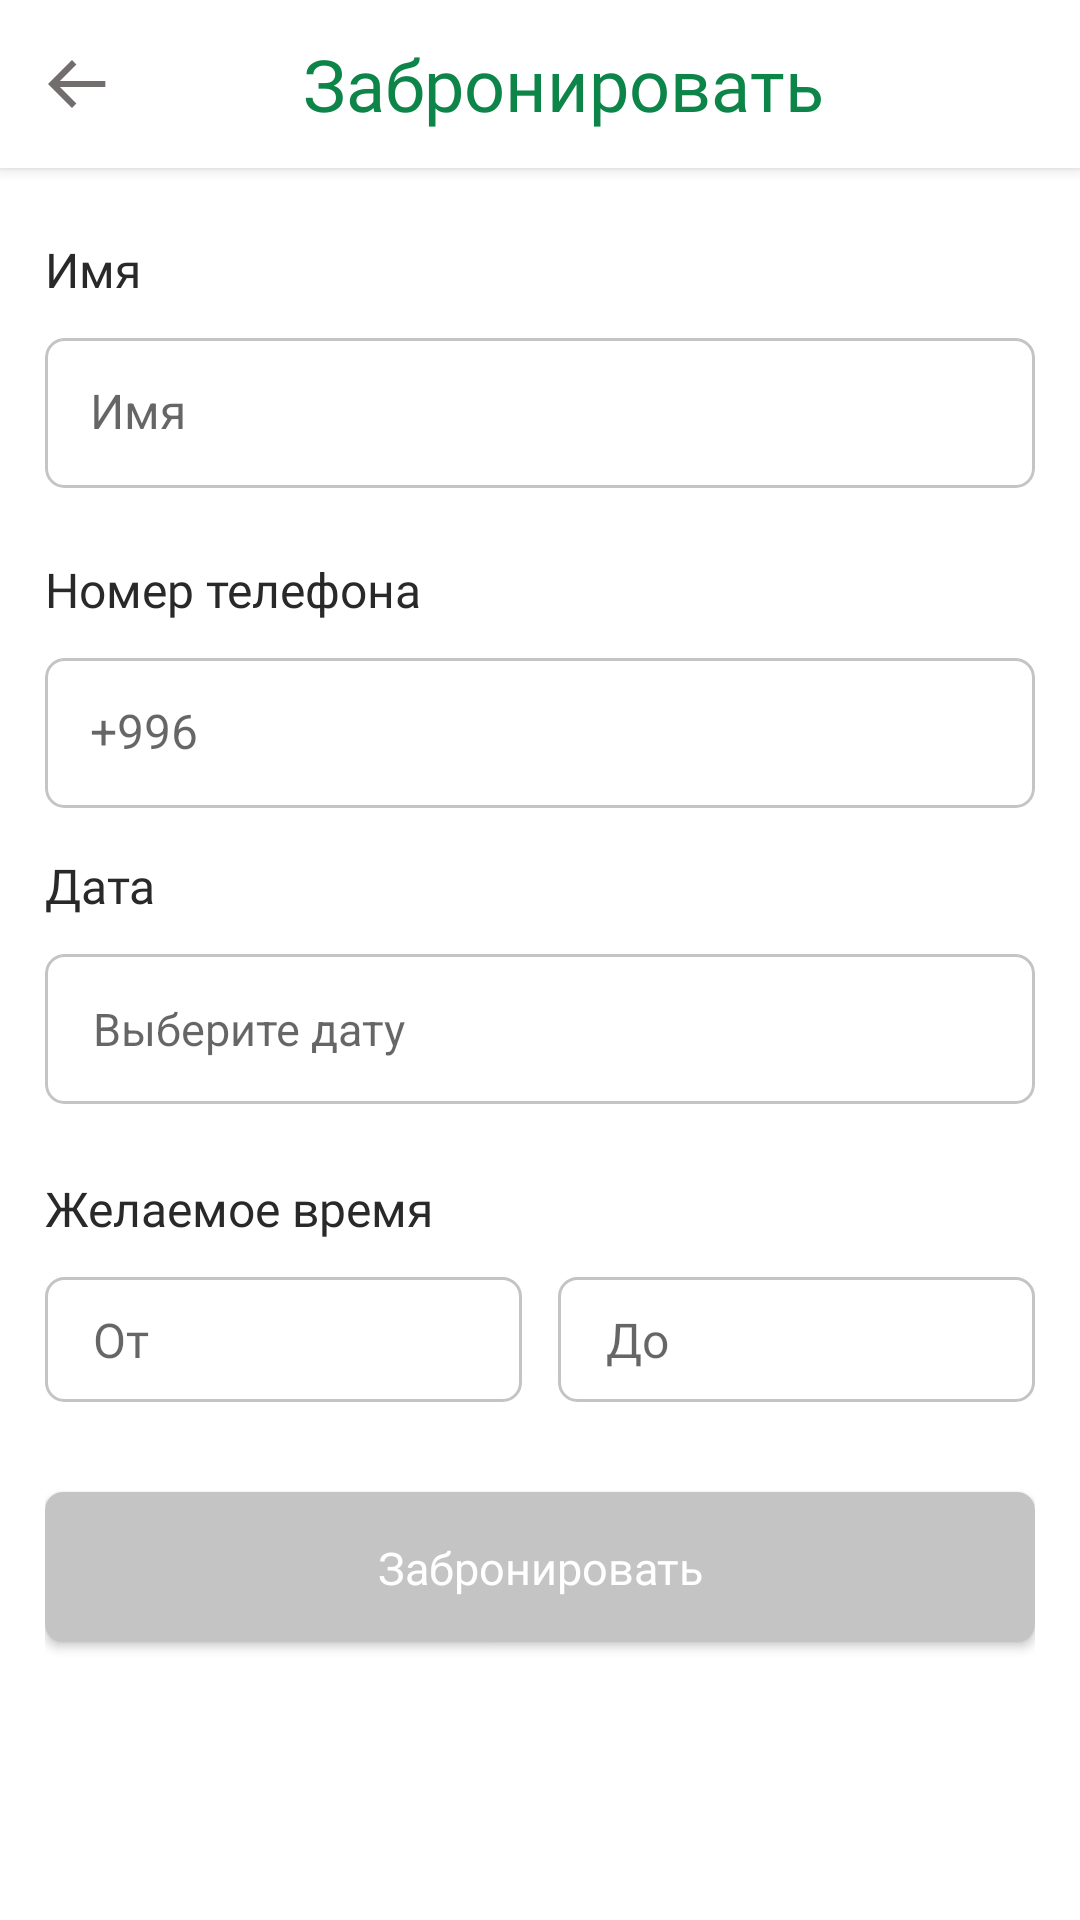

Named icons in this screenshot (1080*1920) and their centers, (x=x, y=y):
arrow back: (x=77, y=84)
